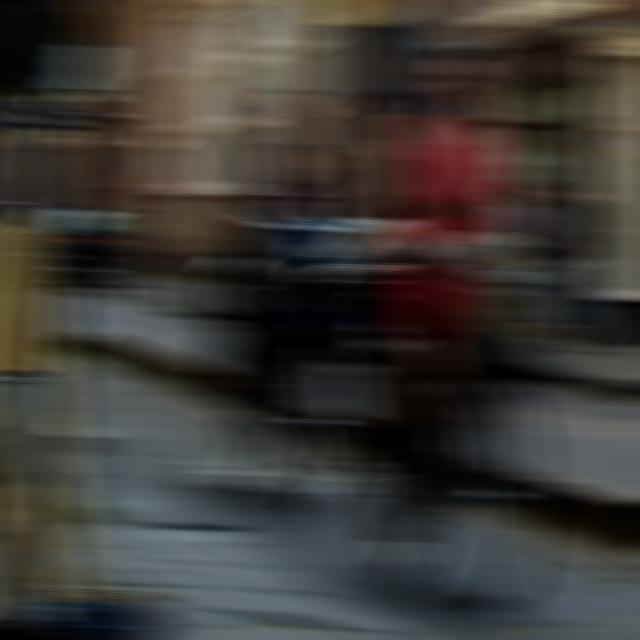Without Helmet: (412, 35, 492, 131), (256, 80, 320, 142)
